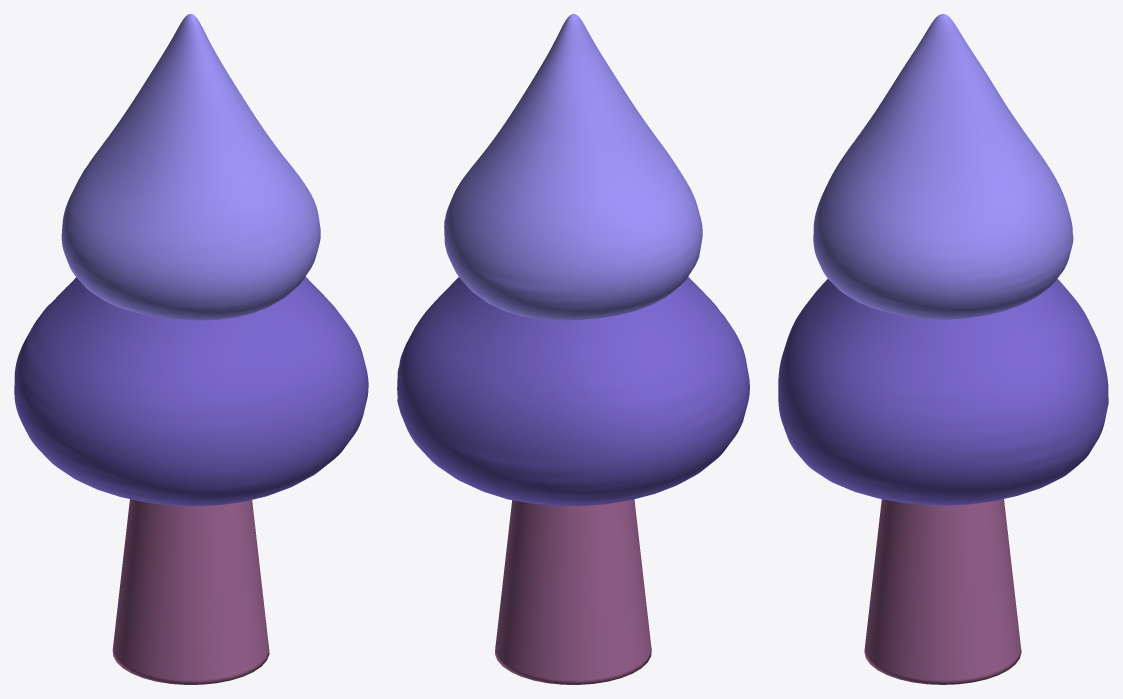
3 views of the same model, side by side, from view 1: azimuth 30°, elevation 25°; view 2: azimuth 150°, elevation 25°; view 3: azimuth 270°, elevation 25° (orthographic).
Parts seen in each view (by area): view 1: Sphere; view 2: Sphere; view 3: Sphere.
Boxes of the visible parts, left/top/right/bottom form: Sphere: left=14, top=14, right=368, bottom=684; Sphere: left=397, top=14, right=749, bottom=684; Sphere: left=778, top=14, right=1108, bottom=684.
Bounding box in the file's own units: 139 × 279 × 131.
